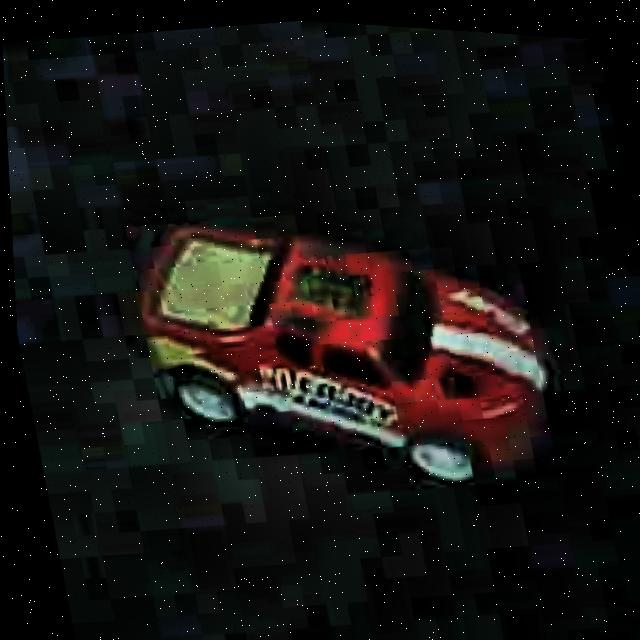car: (119, 168, 575, 538)
